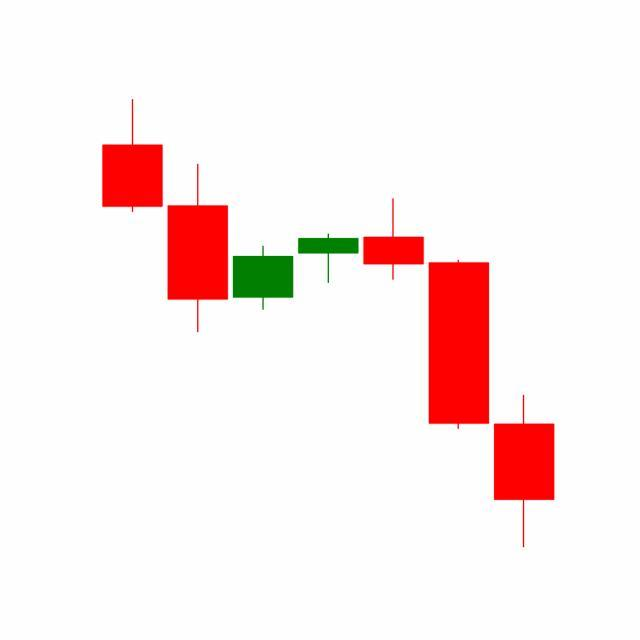Three Outside Up-Down: (295, 196, 492, 432)
